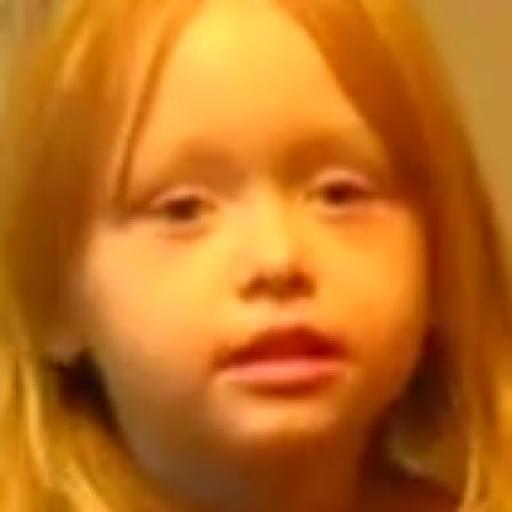Autism: (68, 27, 456, 478)
